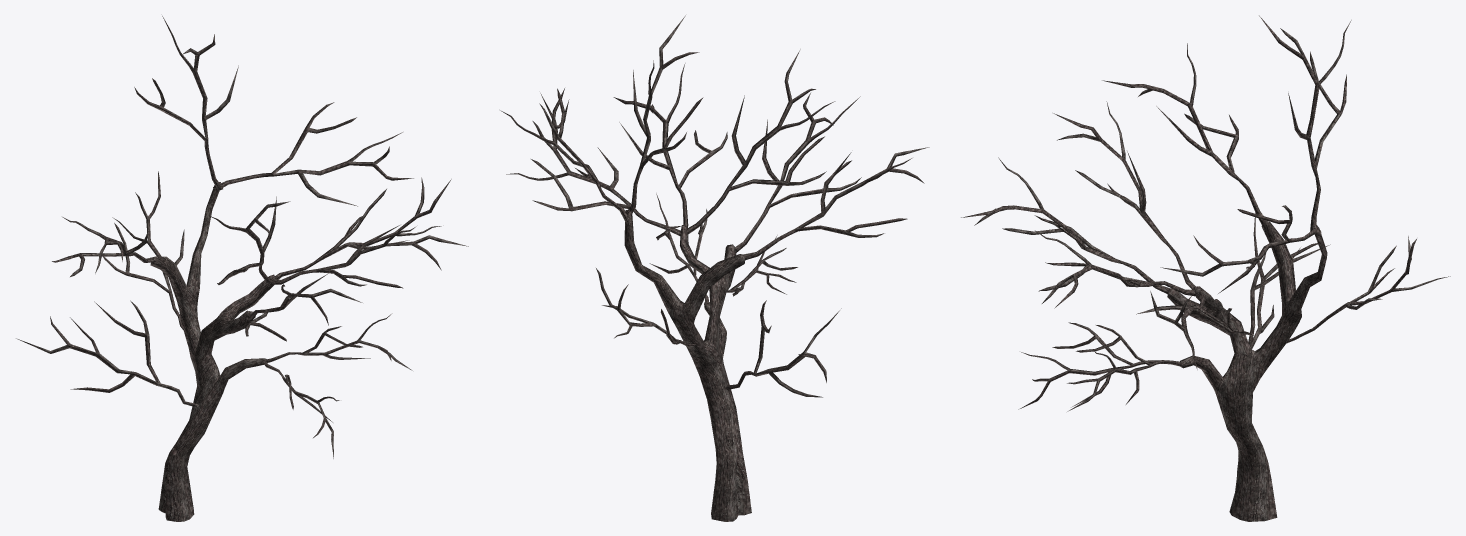
File: lowft.fbx
The picture shows the model from 3 angles, left to right: view 1: azimuth 30°, elevation 25°; view 2: azimuth 150°, elevation 25°; view 3: azimuth 270°, elevation 25°; orthographic projection. The views are drawn at different scales.
Parts seen in each view (by area): view 1: lowft_Mesh_001; view 2: lowft_Mesh_001; view 3: lowft_Mesh_001.
Boxes of the visible parts, x1,y1,x2,y2 form: lowft_Mesh_001: [16, 16, 468, 521]; lowft_Mesh_001: [500, 15, 929, 521]; lowft_Mesh_001: [961, 15, 1450, 521].
Size of the model in its own units: 914 by 1057 by 904.
1 material, 1 textured.
